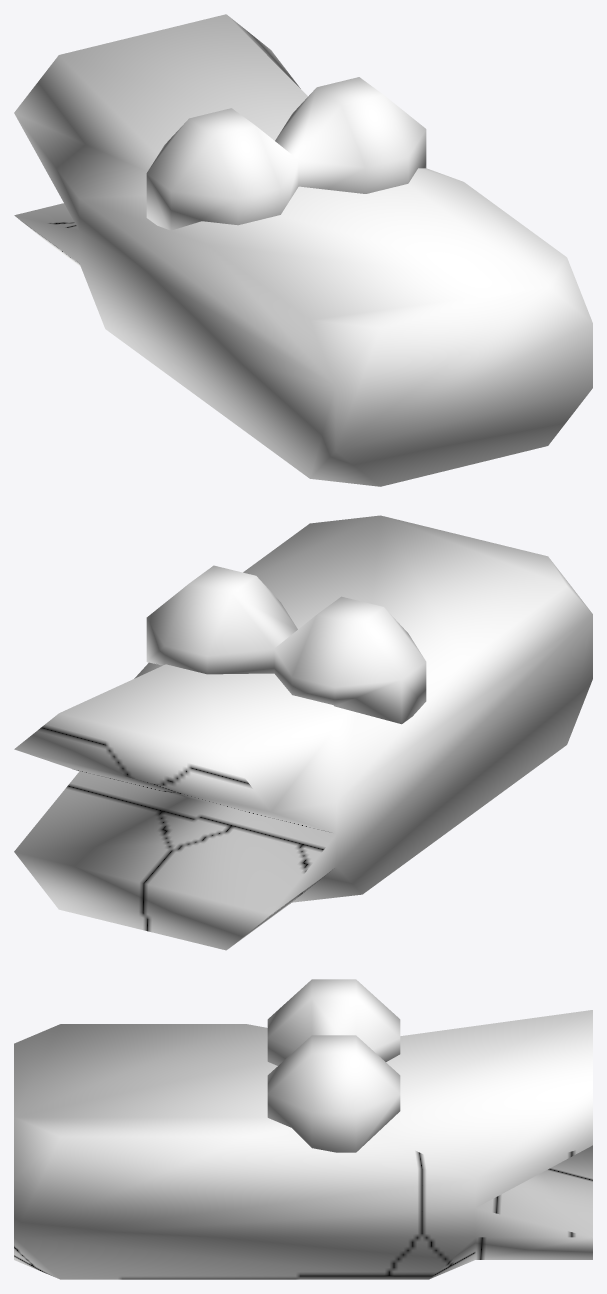
Rendered from head.obj.
3 views of the same model, one above another, from view 1: azimuth 30°, elevation 25°; view 2: azimuth 150°, elevation 25°; view 3: azimuth 270°, elevation 25° (orthographic). The views are drawn at different scales.
Visible parts, largest first — view 1: cube1; view 2: cube1; view 3: cube1.
Boxes of the visible parts, box(x1,y1,x2,y2) form: cube1: box(14, 14, 592, 486); cube1: box(14, 515, 592, 950); cube1: box(14, 979, 592, 1279).
Bounding box in the file's own units: 1.16 × 0.9881 × 2.51.
